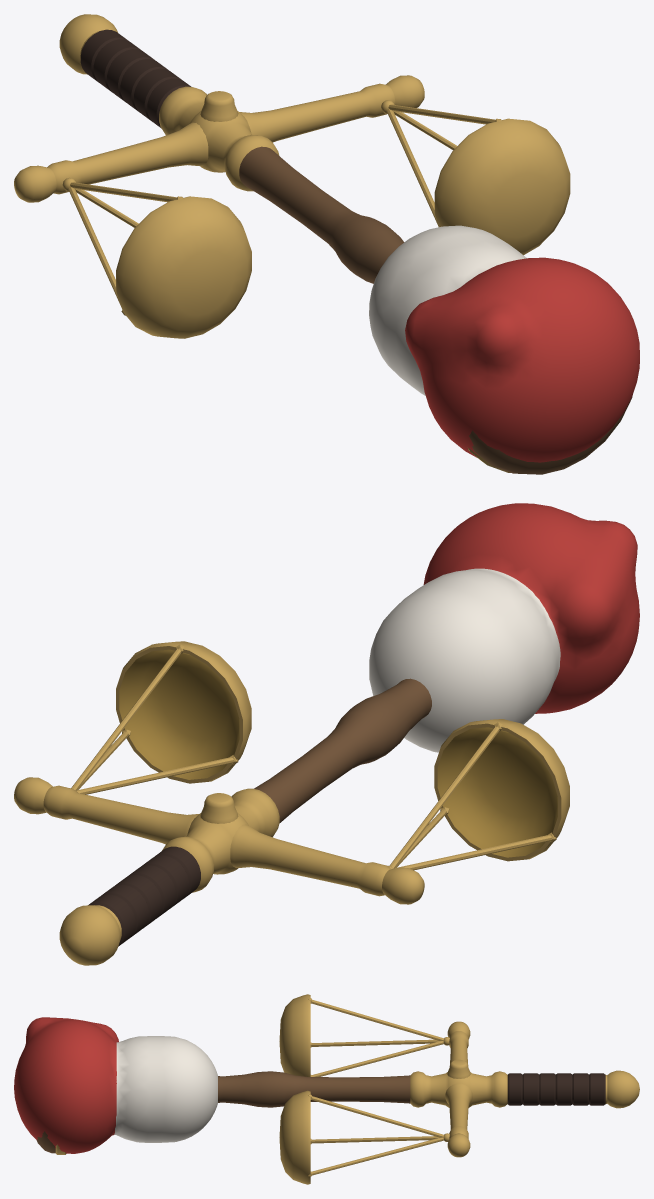
Rendered from w_scales@scales_kangaroo.glb.
3 views of the same model, one above another, from view 1: azimuth 30°, elevation 25°; view 2: azimuth 150°, elevation 25°; view 3: azimuth 270°, elevation 25° (orthographic). The views are drawn at different scales.
Visible parts, largest first — view 1: glove_wzN__glove__pb23b36, pan_wzB__gold__pc4a15a, beam_wzB__gold__pc4a15a, glove_wzN__cuffw__pe8e2d8, column_wzA__iron__p6e5137, collar_wzN__gold__pc4a15a, handle_wzB__leather__p3a2b24, pan_wzN__gold__pc4a15a; view 2: glove_wzN__cuffw__pe8e2d8, glove_wzN__glove__pb23b36, pan_wzB__goldin__pa5853f, beam_wzB__gold__pc4a15a, column_wzA__iron__p6e5137, collar_wzN__gold__pc4a15a, pan_wzB__gold__pc4a15a, pan_wzN__gold__pc4a15a, handle_wzB__leather__p3a2b24; view 3: glove_wzN__glove__pb23b36, glove_wzN__cuffw__pe8e2d8, column_wzA__iron__p6e5137, pan_wzB__gold__pc4a15a, pan_wzN__gold__pc4a15a, collar_wzN__gold__pc4a15a, handle_wzB__leather__p3a2b24, beam_wzB__gold__pc4a15a.
Part boxes in pixels (x1,y1,x2,y2): glove_wzN__glove__pb23b36: [405, 257, 639, 462]; pan_wzB__gold__pc4a15a: [116, 118, 570, 338]; beam_wzB__gold__pc4a15a: [14, 75, 424, 202]; glove_wzN__cuffw__pe8e2d8: [369, 225, 526, 395]; column_wzA__iron__p6e5137: [239, 146, 632, 474]; collar_wzN__gold__pc4a15a: [59, 14, 510, 472]; handle_wzB__leather__p3a2b24: [80, 29, 191, 128]; pan_wzN__gold__pc4a15a: [62, 100, 501, 315]; glove_wzN__cuffw__pe8e2d8: [369, 568, 560, 752]; glove_wzN__glove__pb23b36: [423, 503, 639, 713]; pan_wzB__goldin__pa5853f: [119, 649, 557, 857]; beam_wzB__gold__pc4a15a: [14, 777, 424, 904]; column_wzA__iron__p6e5137: [254, 678, 431, 822]; collar_wzN__gold__pc4a15a: [59, 788, 279, 965]; pan_wzB__gold__pc4a15a: [116, 641, 569, 861]; pan_wzN__gold__pc4a15a: [71, 644, 556, 870]; handle_wzB__leather__p3a2b24: [88, 846, 200, 946]; glove_wzN__glove__pb23b36: [14, 1017, 118, 1153]; glove_wzN__cuffw__pe8e2d8: [114, 1036, 217, 1142]; column_wzA__iron__p6e5137: [36, 1071, 410, 1153]; pan_wzB__gold__pc4a15a: [279, 994, 310, 1184]; pan_wzN__gold__pc4a15a: [308, 998, 449, 1176]; collar_wzN__gold__pc4a15a: [55, 1070, 639, 1154]; handle_wzB__leather__p3a2b24: [507, 1073, 605, 1105]; beam_wzB__gold__pc4a15a: [445, 1021, 472, 1157].
Size of the model in its own units: 0.4448 by 0.1859 by 0.8665.
